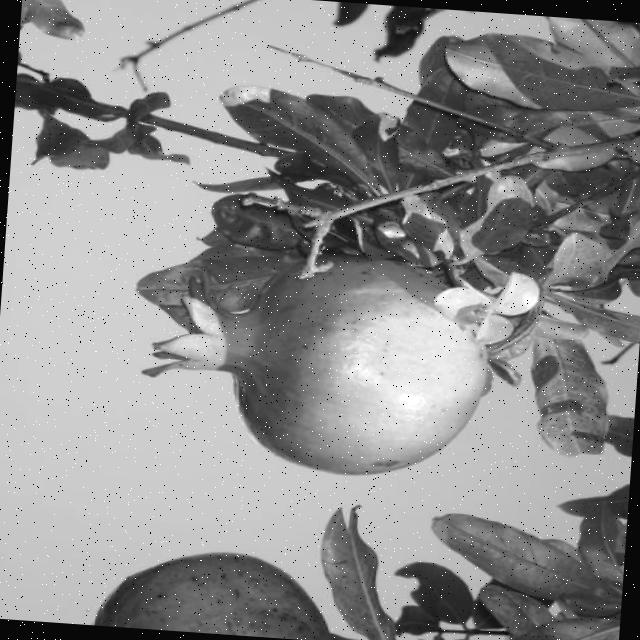Unripe: (138, 245, 496, 480)
